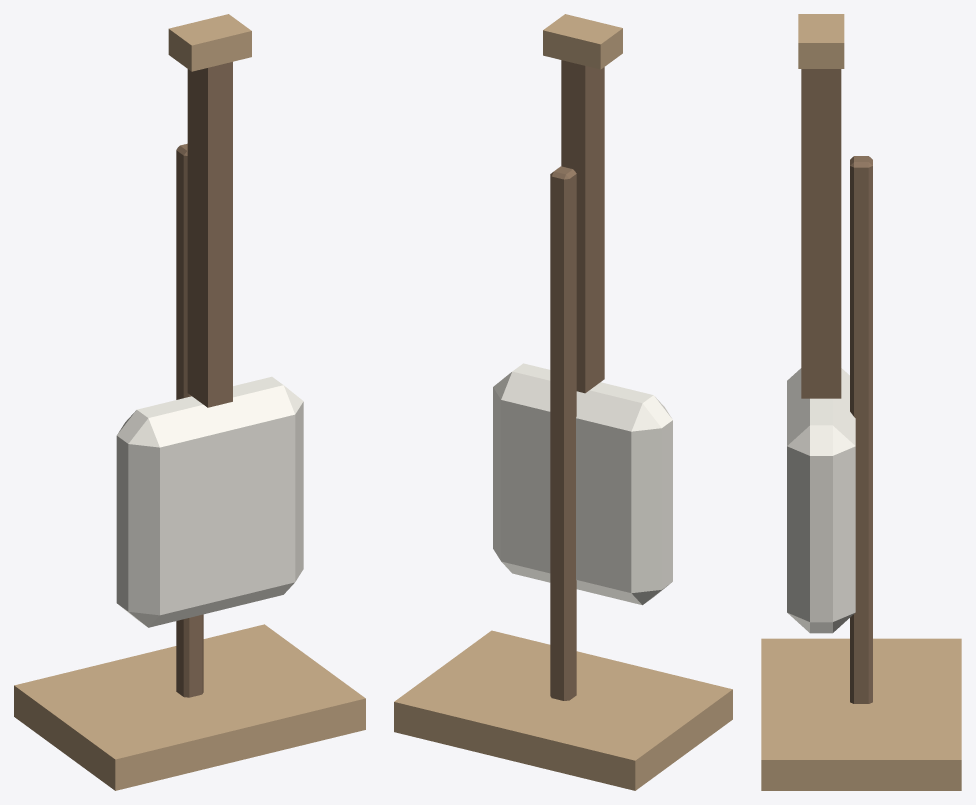
File: feudal-japan-castle-town-shamisen-on-stand-2c6b4421__26491.glb
3 views of the same model, side by side, from view 1: azimuth 30°, elevation 25°; view 2: azimuth 150°, elevation 25°; view 3: azimuth 270°, elevation 25° (orthographic). The views are drawn at different scales.
Parts seen in each view (by area): view 1: shamisen-on-stand; view 2: shamisen-on-stand; view 3: shamisen-on-stand.
Part boxes in pixels (x1,y1,x2,y2): shamisen-on-stand: (14,14,365,790); shamisen-on-stand: (394,14,732,790); shamisen-on-stand: (761,14,961,790).
Bounding box in the file's own units: 0.5 × 1.35 × 0.3501.
